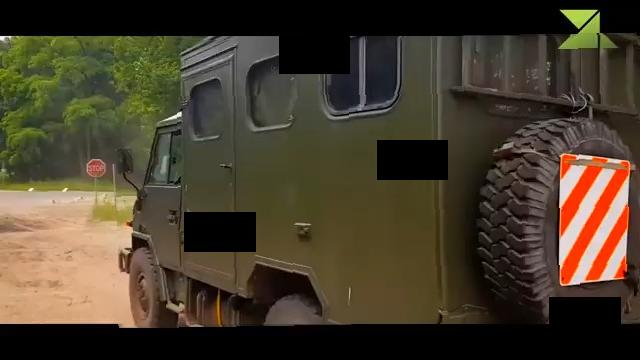MIL_HMMWV: (115, 34, 640, 326)
